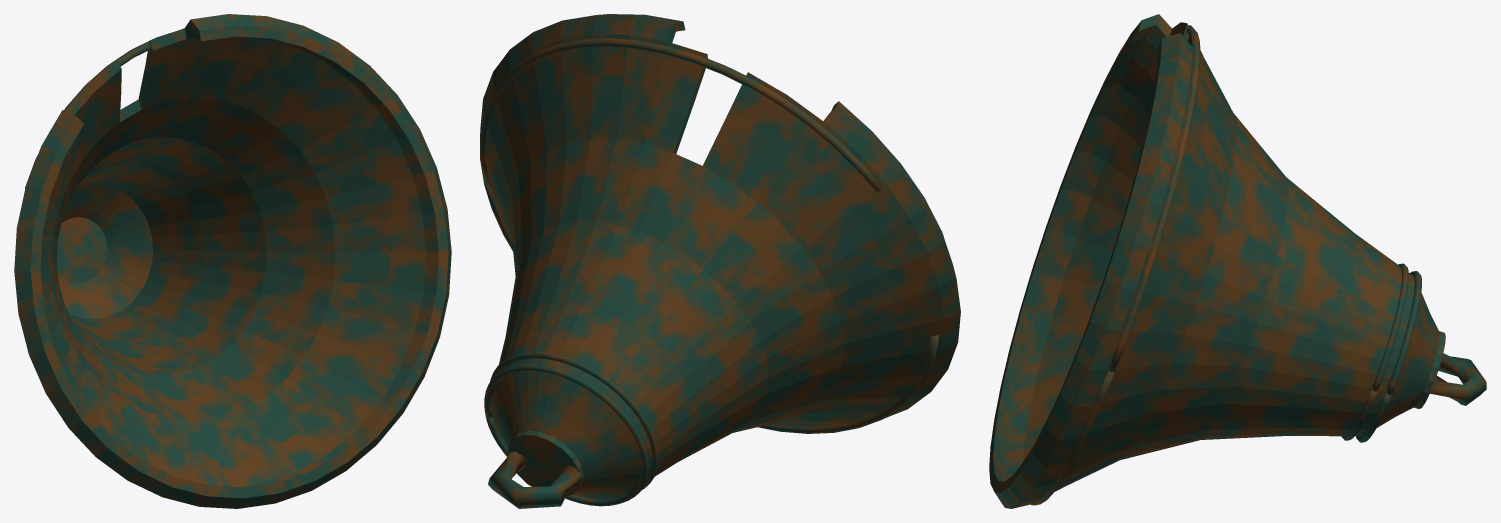
The model's file is broken-bell-BId6dQtE.glb.
3 views of the same model, side by side, from view 1: azimuth 30°, elevation 25°; view 2: azimuth 150°, elevation 25°; view 3: azimuth 270°, elevation 25° (orthographic). The views are drawn at different scales.
Parts seen in each view (by area): view 1: broken-bell__LS_bronze; view 2: broken-bell__LS_bronze; view 3: broken-bell__LS_bronze.
Part boxes in pixels (x1,y1,x2,y2): broken-bell__LS_bronze: (14,14,451,508); broken-bell__LS_bronze: (480,14,960,508); broken-bell__LS_bronze: (989,14,1486,508).
Size of the model in its own units: 6.28 by 5.9 by 5.91.
1 material, 1 textured.
